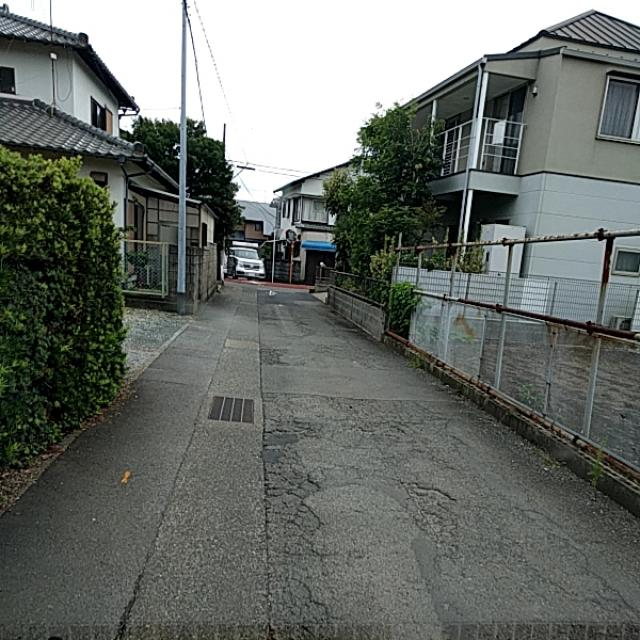pothole: (380, 402, 602, 602), (257, 372, 362, 630)
